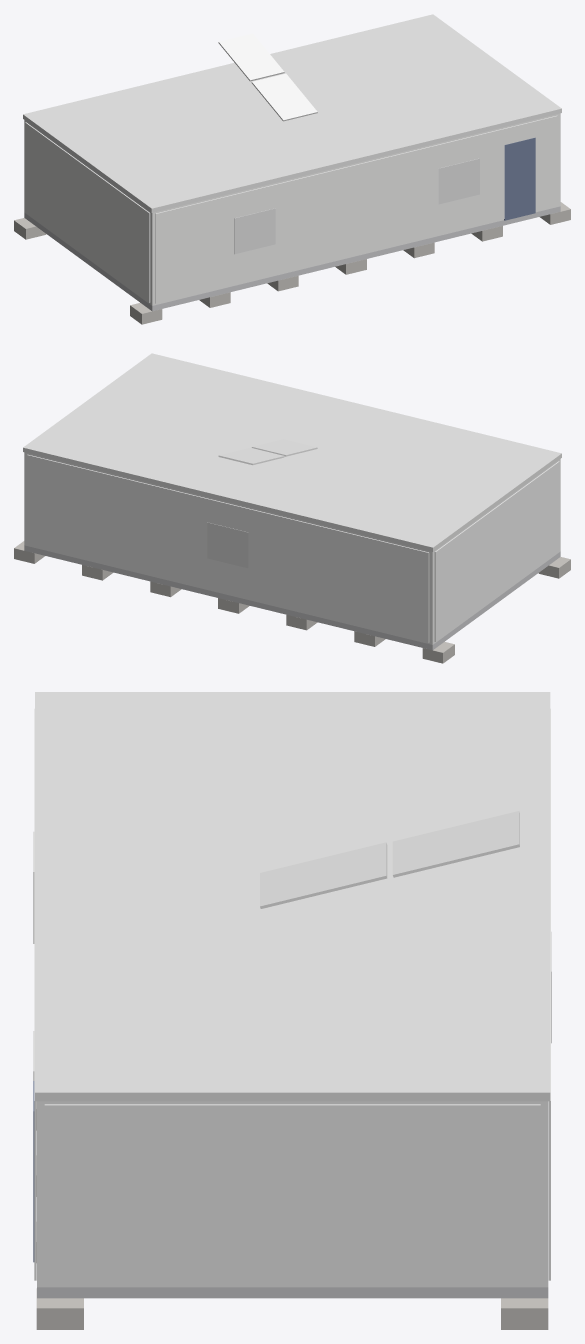
The model's file is Studio-40-FullSolar-LOD2.glb.
The picture shows the model from 3 angles, top to bottom: view 1: azimuth 30°, elevation 25°; view 2: azimuth 150°, elevation 25°; view 3: azimuth 270°, elevation 25°; orthographic projection. The views are drawn at different scales.
Visible parts, largest first — view 1: RoofMain, ExteriorPanelsStandard, SolarPanelArray, BaseFrame, WindowsStandard, ExteriorShell, FoundationBlocks, EntryDoor; view 2: RoofMain, ExteriorPanelsStandard, BaseFrame, ExteriorShell, FoundationBlocks, WindowsStandard, SolarPanelArray; view 3: RoofMain, ExteriorPanelsStandard, SolarPanelArray, ExteriorShell, BaseFrame, FoundationBlocks.
Boxes of the visible parts, x1,y1,x2,y2 form: RoofMain: [23, 14, 561, 212]; ExteriorPanelsStandard: [25, 115, 557, 303]; SolarPanelArray: [218, 33, 317, 121]; BaseFrame: [24, 206, 560, 311]; WindowsStandard: [234, 158, 479, 254]; ExteriorShell: [24, 113, 560, 305]; FoundationBlocks: [14, 202, 570, 324]; EntryDoor: [504, 137, 535, 220]; RoofMain: [23, 353, 561, 551]; ExteriorPanelsStandard: [27, 454, 559, 642]; BaseFrame: [24, 545, 560, 650]; ExteriorShell: [24, 452, 560, 644]; FoundationBlocks: [14, 541, 570, 663]; WindowsStandard: [207, 522, 248, 568]; SolarPanelArray: [218, 439, 317, 465]; RoofMain: [35, 692, 550, 1101]; ExteriorPanelsStandard: [34, 708, 550, 1284]; SolarPanelArray: [260, 811, 519, 908]; ExteriorShell: [37, 1101, 548, 1287]; BaseFrame: [37, 1287, 548, 1298]; FoundationBlocks: [36, 1101, 548, 1329].
Size of the model in its own units: 12.49 by 4.07 by 6.53.
